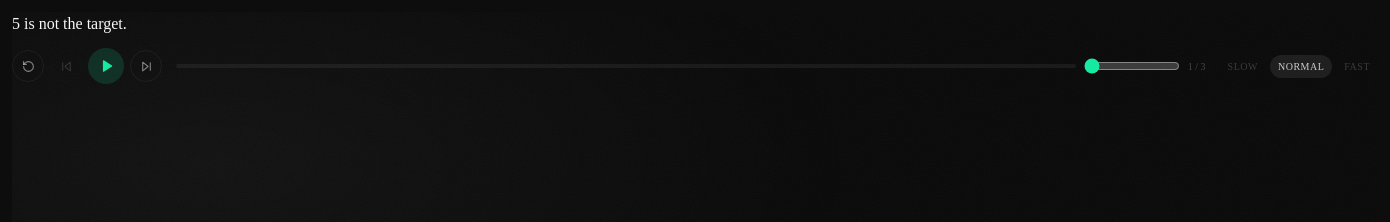
Scenario: AnimationPlayer › restarts from the beginning when played at the final step
What coordinates should you click on to do the following:
click the button named "Next step"
I would click on:
 (146, 66)
Its box is [130,50,162,82].
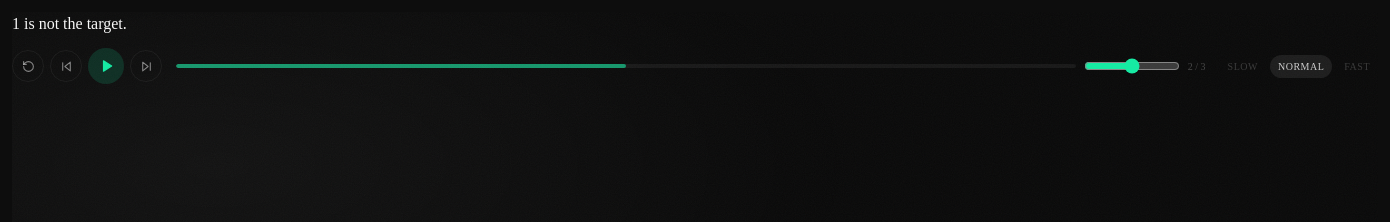
What coordinates should you click on to do the following:
click the button named "Next step"
I would click on:
 (146, 66)
Its box is [130,50,162,82].
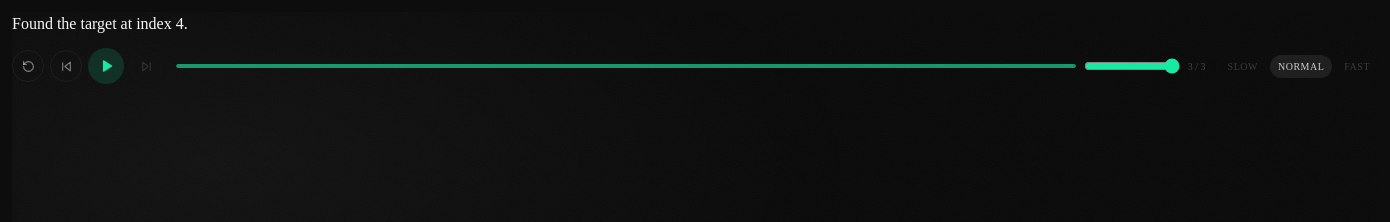
Now the text "Found the target at index 4." is shown, box [12,15,188,32]
What coordinates should you click on to do the following:
click the button named "Play animation"
I would click on:
 (106, 66)
Its box is [88,48,124,84].
Wait 900 ms
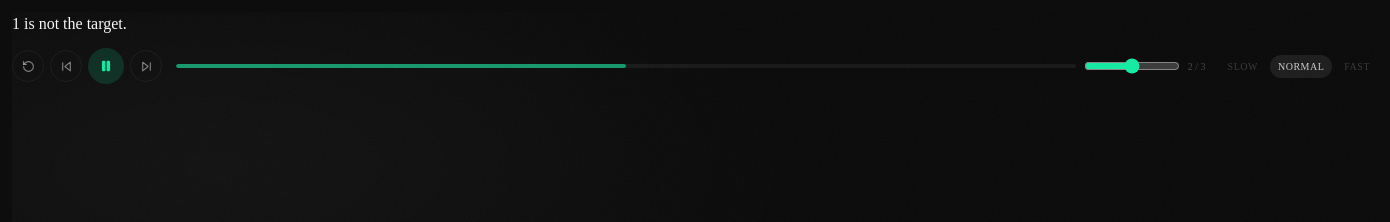
Now the text "1 is not the target." is shown, box [12,15,127,32]
